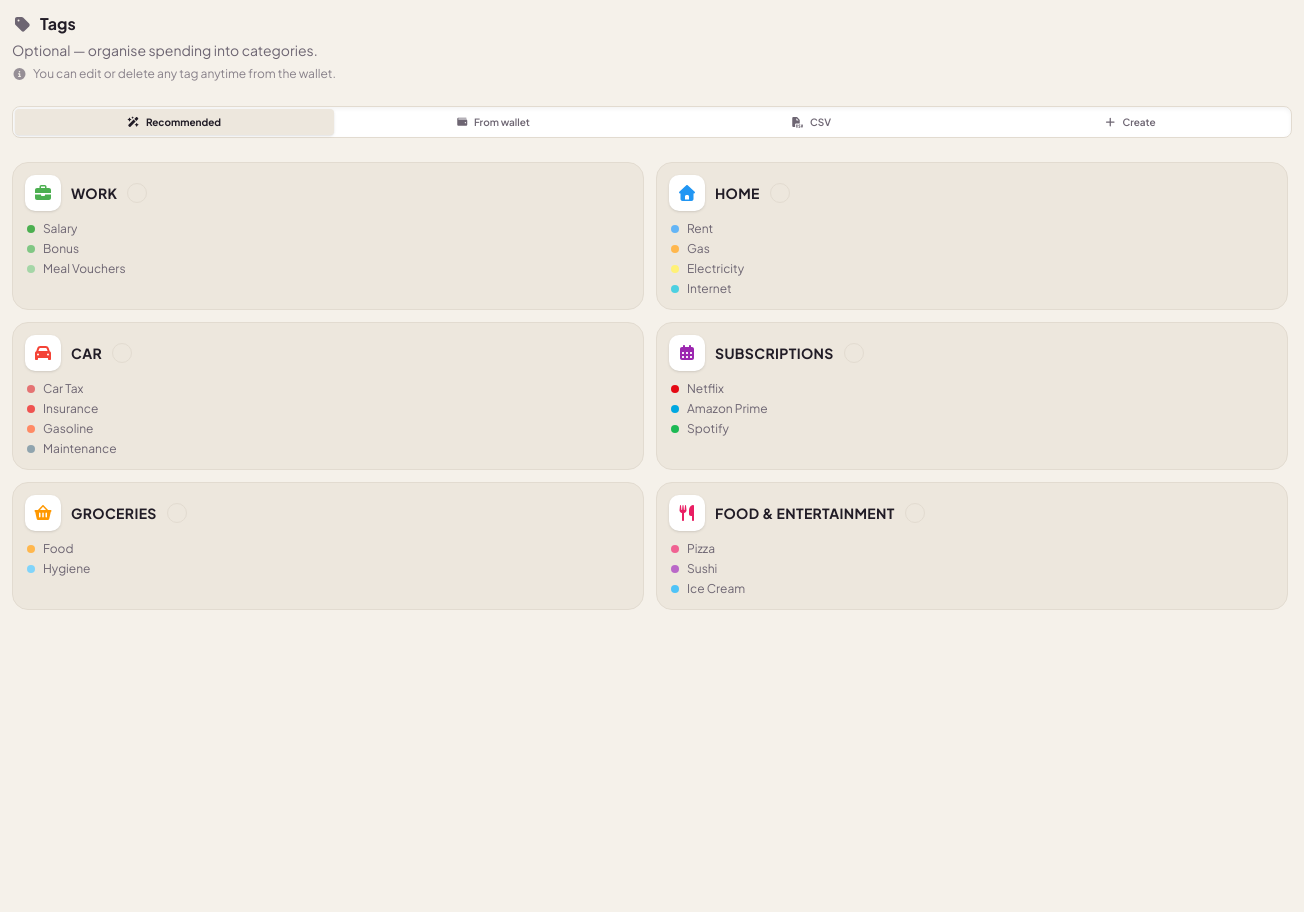
Test: TagsStep — recommended categories › lists staged categories in the staged tree region
Step 1. Click the button with aria-label "select the car category" → [43, 353], box [12,322,644,470]
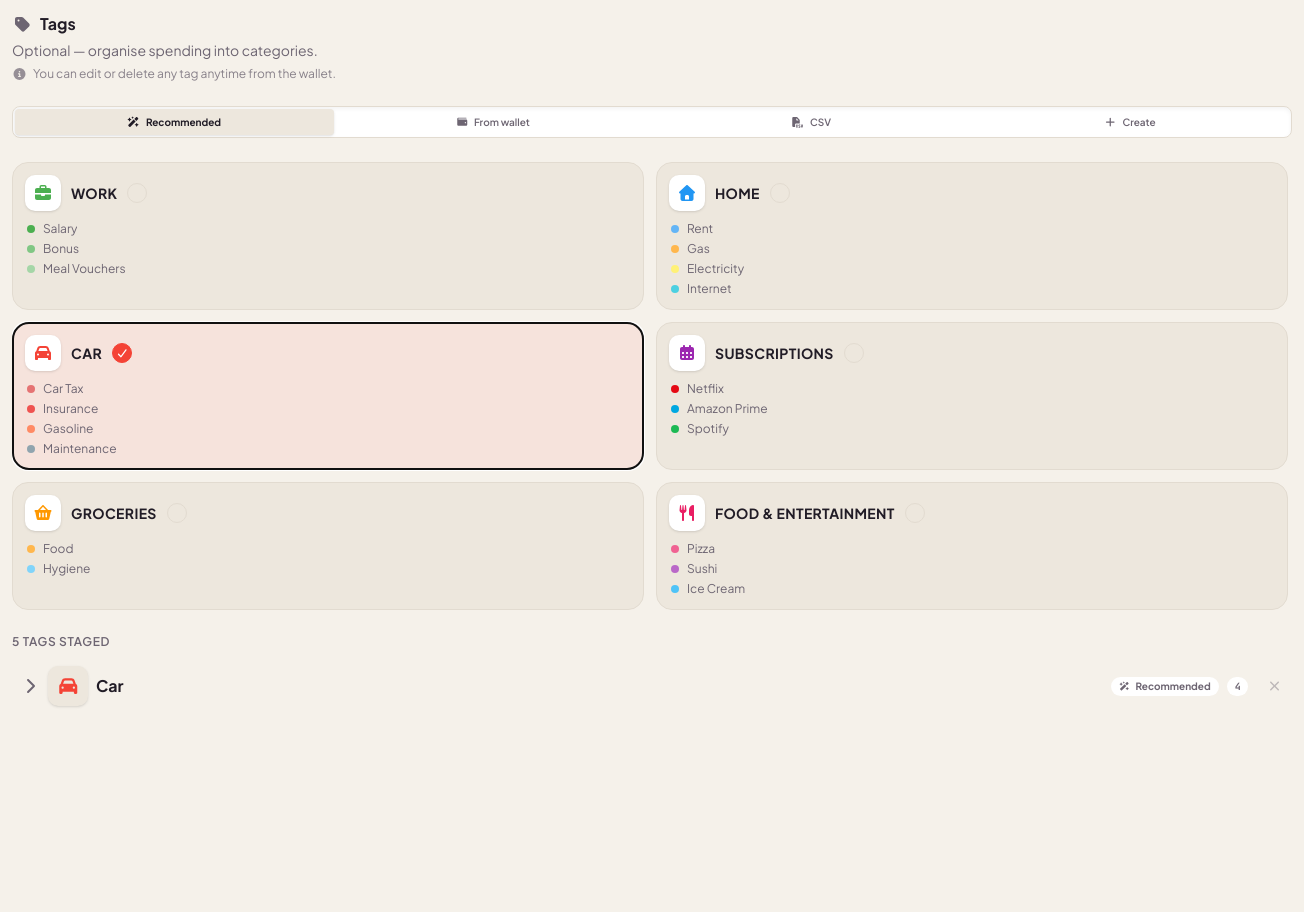
Check: the text "Car" below "staged" is shown, box [96,675,124,696]
